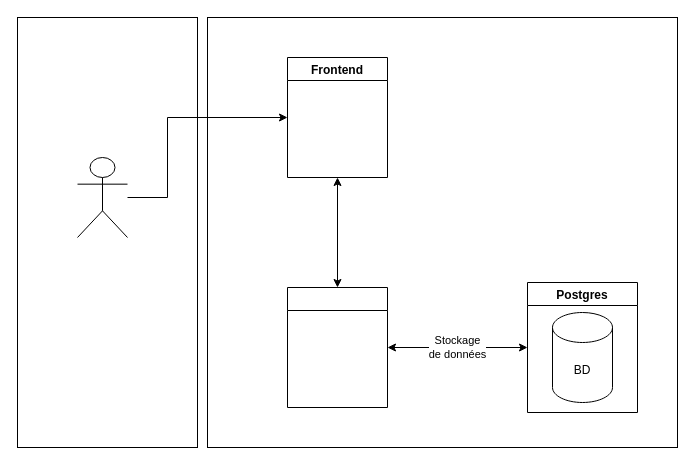
The diagram is 695 pixels wide and 465 high, and some of its shapes have lost their labels. The box of each missing label's shape, as (x1, y1, x2, y2) in pixels:
API Flights: (286, 286, 388, 408)
User: (76, 156, 128, 238)
